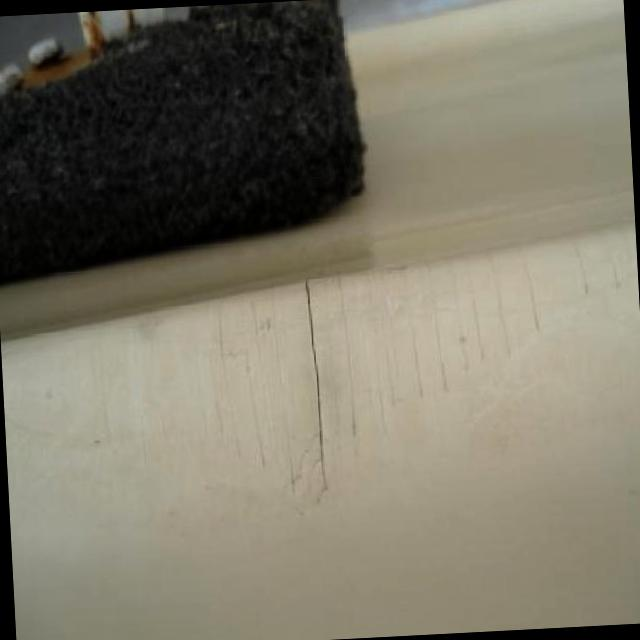crack: (352, 267, 399, 436), (269, 288, 298, 499), (303, 275, 327, 497), (215, 299, 244, 465), (240, 322, 270, 473), (335, 270, 360, 448), (398, 265, 427, 408), (425, 263, 452, 397), (447, 258, 473, 376)
